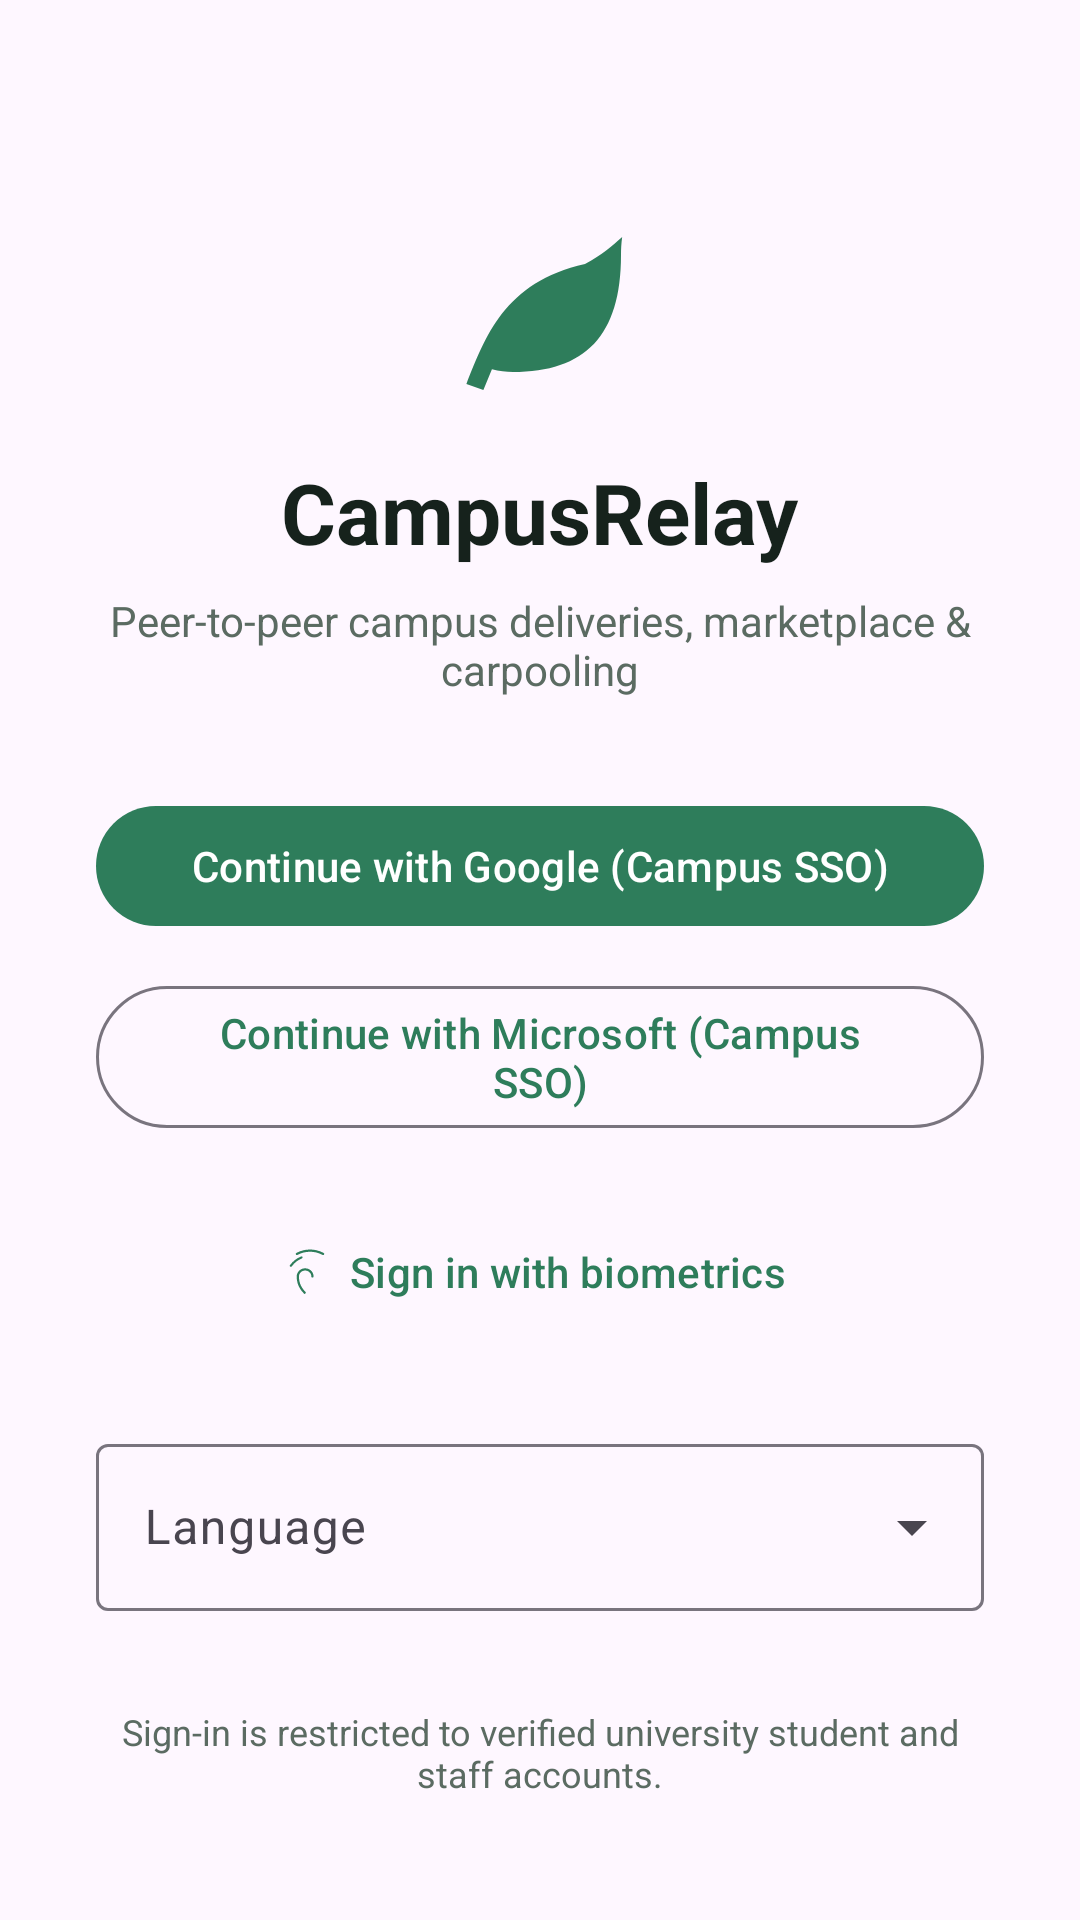

Named icons in this screenshot (1080x1920) and their bounding boxes, region(x1, y1, x2, y2):
eco: region(466, 237, 622, 390)
